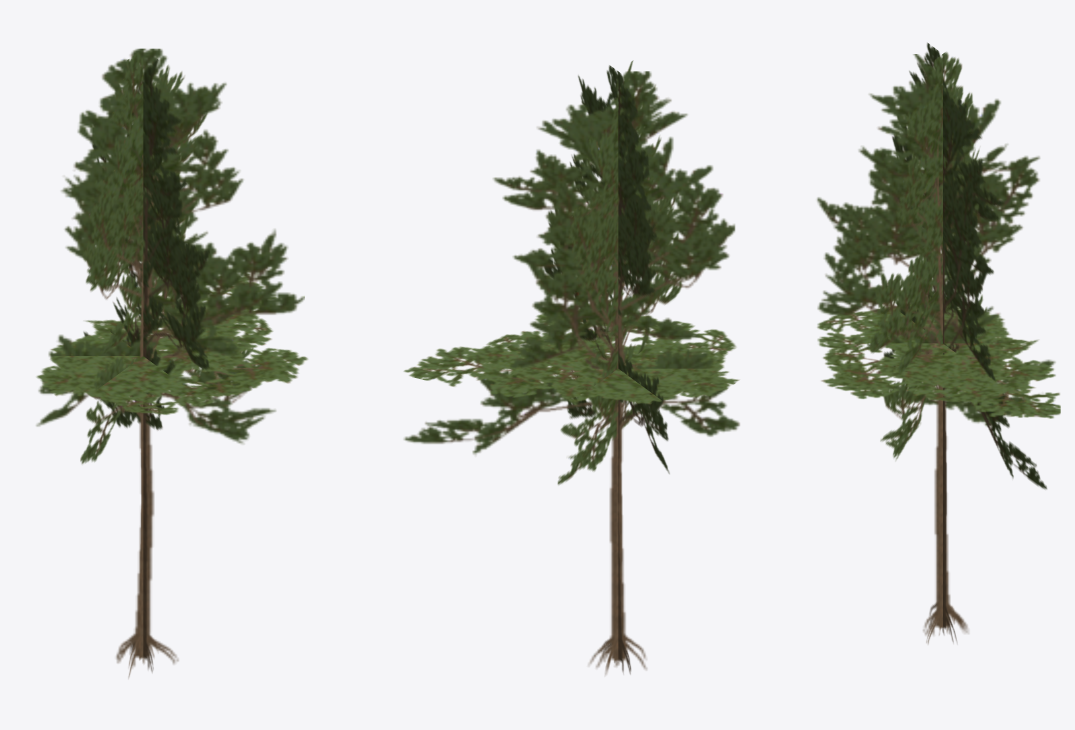
Rendered from pine_pine_medium_1_billboard.gltf.
The picture shows the model from 3 angles, left to right: view 1: azimuth 30°, elevation 25°; view 2: azimuth 150°, elevation 25°; view 3: azimuth 270°, elevation 25°; orthographic projection. The views are drawn at different scales.
Visible parts, largest first — view 1: Pine_medium_1_Billboard_LOD3_Pine_medium_1_Billboard_Mat_0; view 2: Pine_medium_1_Billboard_LOD3_Pine_medium_1_Billboard_Mat_0; view 3: Pine_medium_1_Billboard_LOD3_Pine_medium_1_Billboard_Mat_0.
Boxes of the visible parts, x1,y1,x2,y2 form: Pine_medium_1_Billboard_LOD3_Pine_medium_1_Billboard_Mat_0: (36,48,307,678); Pine_medium_1_Billboard_LOD3_Pine_medium_1_Billboard_Mat_0: (403,60,739,674); Pine_medium_1_Billboard_LOD3_Pine_medium_1_Billboard_Mat_0: (817,43,1060,643).
Size of the model in its own units: 6.38 by 13.79 by 5.24.
1 material, 1 textured.
